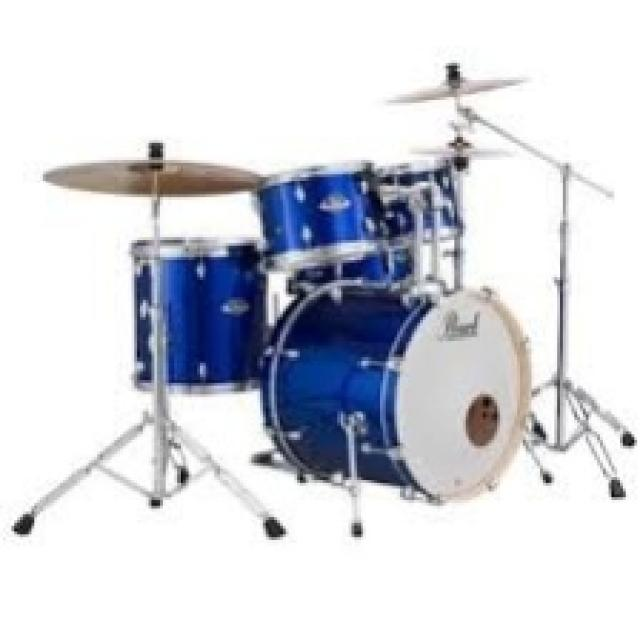drums: (37, 59, 634, 516)
